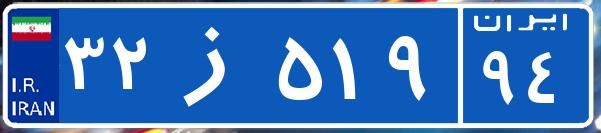1: (330, 28, 385, 110)
2: (110, 28, 158, 105)
3: (57, 26, 110, 107)
4: (525, 38, 570, 115)
5: (273, 28, 330, 110)
9: (385, 28, 445, 110), (475, 38, 525, 113)
ز: (158, 15, 273, 115)
